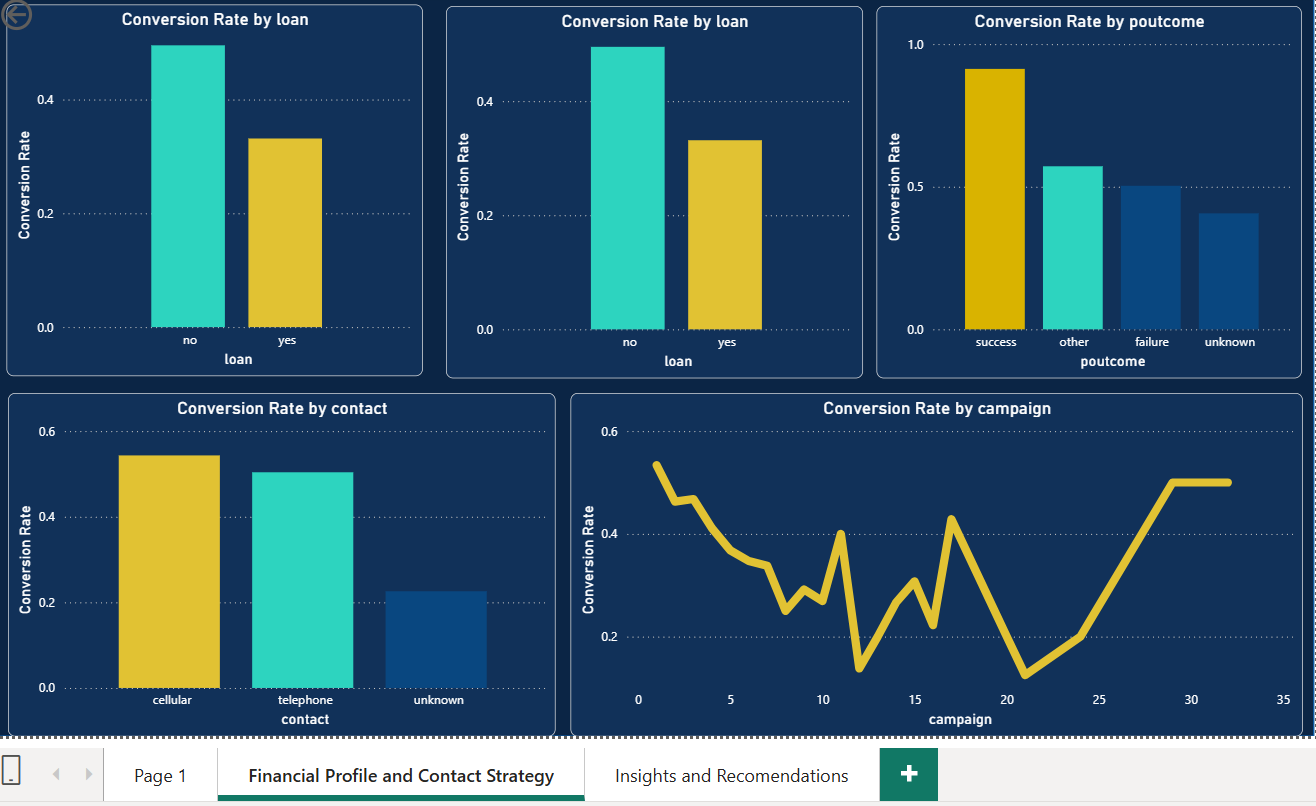

The page's visual inventory and layout, read from the dashboard file:
{"tool":"powerbi","page":{"name":"Financial Profile and Contact Strategy","canvas":[1280,720],"ordinal":1},"visuals":[{"type":"shape","box":[0,0,1279.2,720.6],"z":0},{"type":"columnChart","title":"Conversion Rate by Private Loans","fields":{"Y":["bank_marketing bank.Conversion Rate"],"Category":["bank_marketing bank.loan"]},"box":[10.6,10.6,404.3,360.4],"z":1000},{"type":"columnChart","title":"Conversion Rate by  housing Loans","fields":{"Y":["bank_marketing bank.Conversion Rate"],"Category":["bank_marketing bank.housing"]},"box":[437.2,11.3,404.8,361.1],"z":2000},{"type":"columnChart","fields":{"Y":["bank_marketing bank.Conversion Rate"],"Category":["bank_marketing bank.poutcome"]},"box":[855,11.3,412.9,361.1],"z":3000},{"type":"actionButton","box":[0,0,100,40],"z":4000},{"type":"columnChart","fields":{"Y":["bank_marketing bank.Conversion Rate"],"Category":["bank_marketing bank.contact"]},"box":[11.3,387,531.1,333.6],"z":5000},{"type":"lineChart","fields":{"Y":["bank_marketing bank.Conversion Rate"],"Category":["bank_marketing bank.campaign"]},"box":[557,387,710.8,333.6],"z":6000}]}

Visuals, with their boxes on the page's 1280x720 design canvas (x1, y1, x2, y2). These are canvas units, not pixel positions in the 1316x806 screenshot, which may show the page scaled, cropped or inside an application window:
shape: 0,0,1279,721
"Conversion Rate by Private Loans" columnChart: 11,11,415,371
"Conversion Rate by  housing Loans" columnChart: 437,11,842,372
columnChart - bank_marketing bank.Conversion Rate x bank_marketing bank.poutcome: 855,11,1268,372
actionButton: 0,0,100,40
columnChart - bank_marketing bank.Conversion Rate x bank_marketing bank.contact: 11,387,542,721
lineChart - bank_marketing bank.Conversion Rate x bank_marketing bank.campaign: 557,387,1268,721
